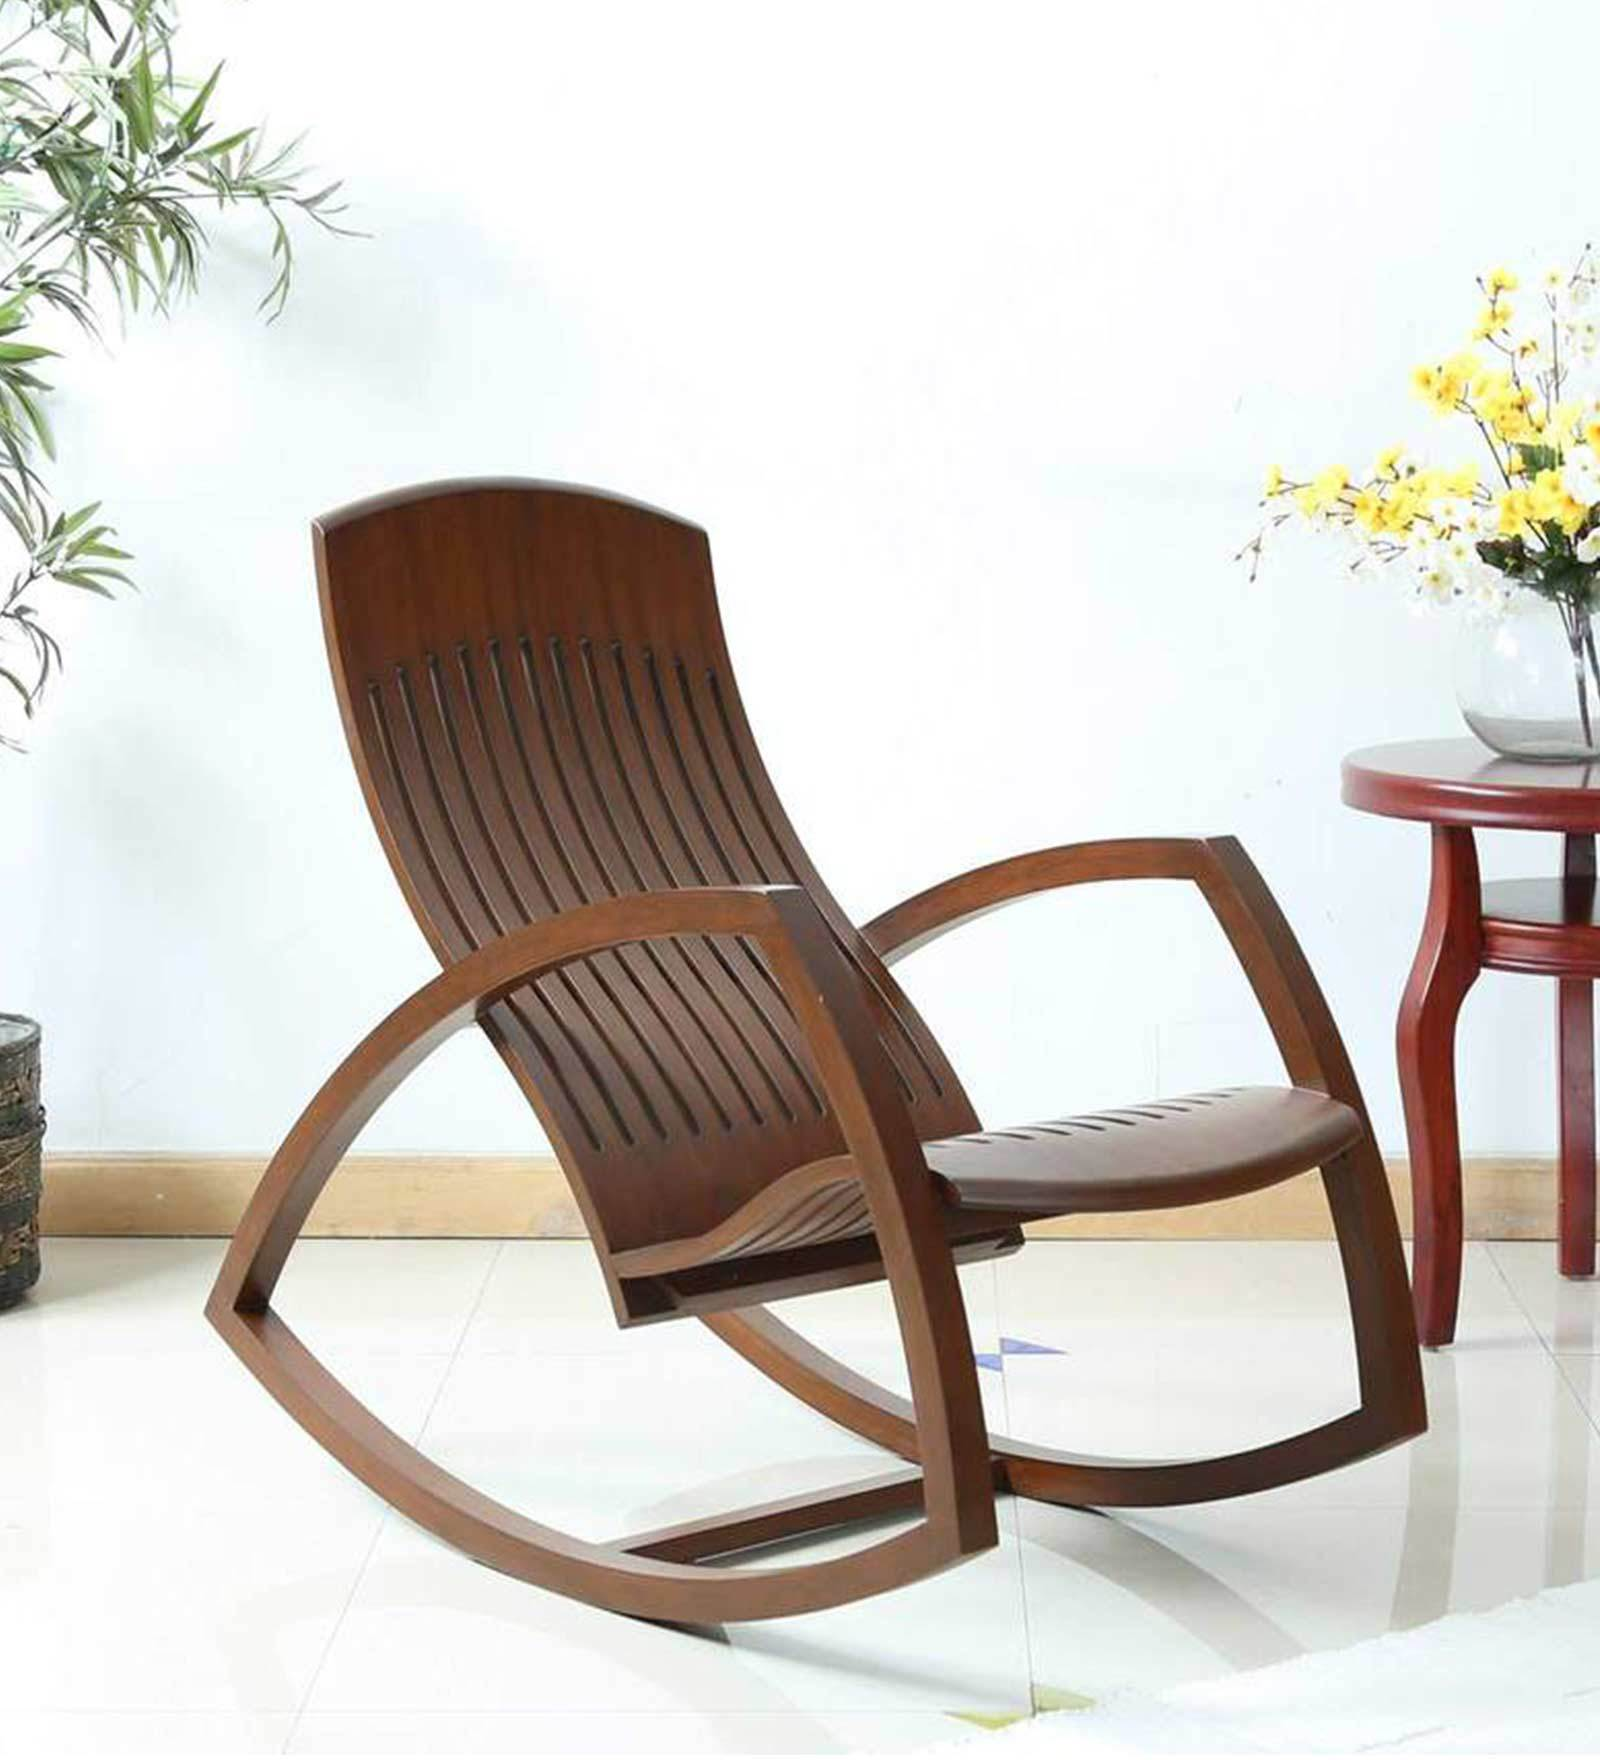Gaivota Rocking Chair in Semi-Gloss Walnut Finish by INDOORS: (158, 455, 1482, 1666)
